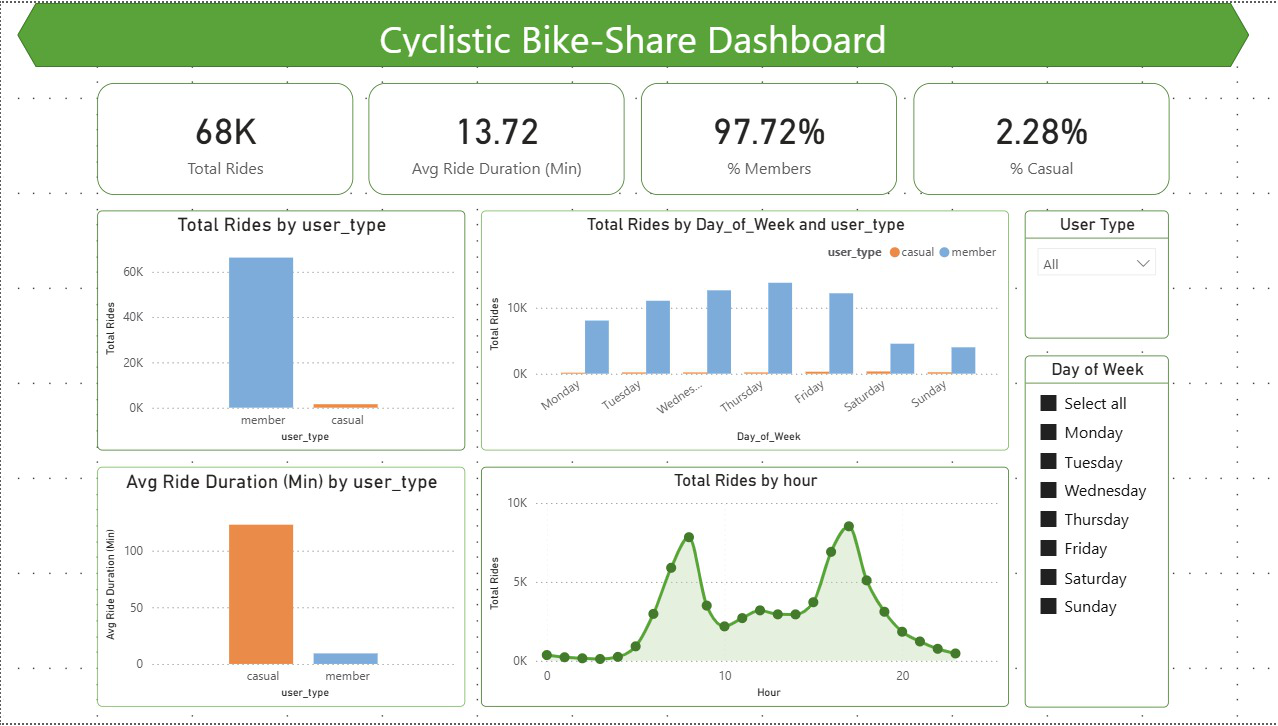

The dashboard page shown, as its layout file describes it:
{"tool":"powerbi","page":{"name":"Cyclistic Bike-Share Dashboard","canvas":[1280,720],"ordinal":0},"visuals":[{"type":"shape","title":" ","box":[16,0,1232,64],"z":0},{"type":"card","fields":{"Values":["cyclistics_cleaned_data.Total Rides"]},"box":[96,80,256,112],"z":1000},{"type":"card","fields":{"Values":["cyclistics_cleaned_data.Avg Ride Duration (Min)"]},"box":[368,80,256,112],"z":2000},{"type":"card","fields":{"Values":["cyclistics_cleaned_data.% Members"]},"box":[640,80,256,112],"z":3000},{"type":"card","fields":{"Values":["cyclistics_cleaned_data.% Casual"]},"box":[912,80,256,112],"z":4000},{"type":"clusteredColumnChart","fields":{"Category":["cyclistics_cleaned_data.user_type"],"Y":["cyclistics_cleaned_data.Total Rides"]},"box":[96,208,368,240],"z":5000},{"type":"clusteredColumnChart","fields":{"Category":["cyclistics_cleaned_data.user_type"],"Y":["cyclistics_cleaned_data.Avg Ride Duration (Min)"]},"box":[96,464,368,240],"z":6000},{"type":"clusteredColumnChart","fields":{"Y":["cyclistics_cleaned_data.Total Rides"],"Series":["cyclistics_cleaned_data.user_type"],"Category":["cyclistics_cleaned_data.DayName"]},"box":[480,208,528,240],"z":7000},{"type":"lineChart","title":"Total Rides by hour","fields":{"Y":["cyclistics_cleaned_data.Total Rides"],"Category":["cyclistics_cleaned_data.hour"]},"box":[480,464,528,240],"z":8000},{"type":"slicer","title":"User Type","fields":{"Values":["cyclistics_cleaned_data.user_type"]},"box":[1024,208,144,128],"z":8001},{"type":"slicer","title":"Day of Week","fields":{"Values":["cyclistics_cleaned_data.Day_of_Week"]},"box":[1024,352,144,352],"z":8002}]}

Visuals, with their boxes in screenshot pixels (x1, y1, x2, y2), scaled from the page's 1280x720 canvas onto the 1278x726 screenshot:
" " shape: <box>16,0,1246,65</box>
card - cyclistics_cleaned_data.Total Rides: <box>96,81,351,194</box>
card - cyclistics_cleaned_data.Avg Ride Duration (Min): <box>367,81,623,194</box>
card - cyclistics_cleaned_data.% Members: <box>639,81,895,194</box>
card - cyclistics_cleaned_data.% Casual: <box>911,81,1166,194</box>
clusteredColumnChart - cyclistics_cleaned_data.user_type x cyclistics_cleaned_data.Total Rides: <box>96,210,463,452</box>
clusteredColumnChart - cyclistics_cleaned_data.user_type x cyclistics_cleaned_data.Avg Ride Duration (Min): <box>96,468,463,710</box>
clusteredColumnChart - cyclistics_cleaned_data.Total Rides x cyclistics_cleaned_data.user_type: <box>479,210,1006,452</box>
"Total Rides by hour" lineChart: <box>479,468,1006,710</box>
"User Type" slicer: <box>1022,210,1166,339</box>
"Day of Week" slicer: <box>1022,355,1166,710</box>
